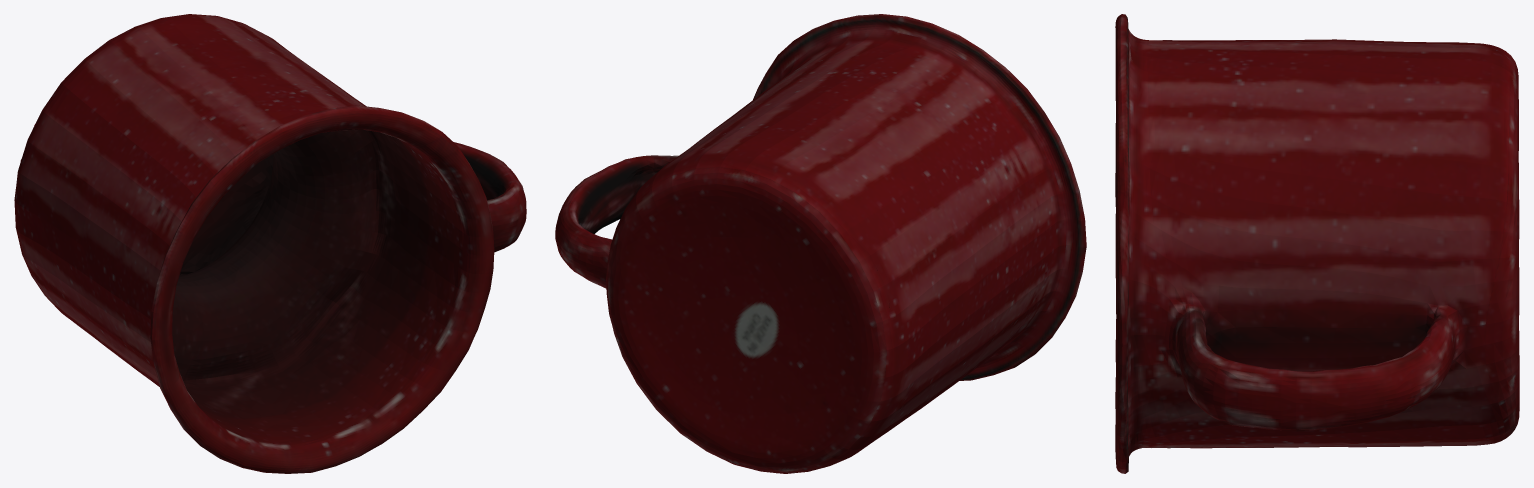
The model's file is ycb_mug.glb.
3 renders of one model, left to right at view 1: azimuth 30°, elevation 25°; view 2: azimuth 150°, elevation 25°; view 3: azimuth 270°, elevation 25°, orthographic. The views are drawn at different scales.
Parts seen in each view (by area): view 1: 025_mug; view 2: 025_mug; view 3: 025_mug.
Part boxes in pixels (box(x1,y1,x2,y2)): 025_mug: box(14, 14, 526, 473); 025_mug: box(555, 14, 1086, 473); 025_mug: box(1115, 14, 1519, 473).
Bounding box in the file's own units: 0.1167 × 0.0924 × 0.0812.
1 material, 1 textured.
